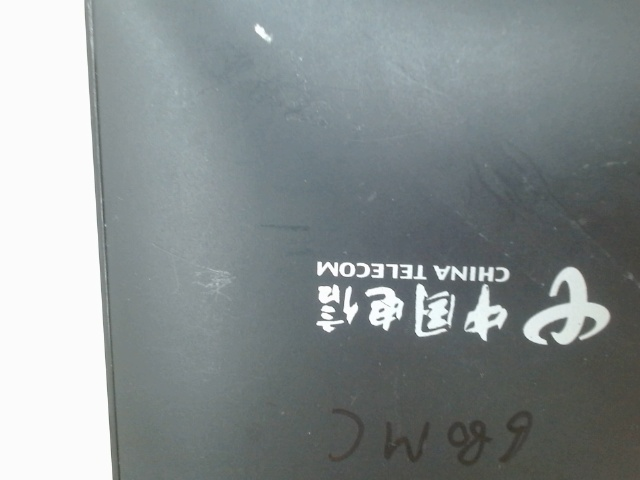AB_ChinaTelecom: (297, 237, 620, 359)
